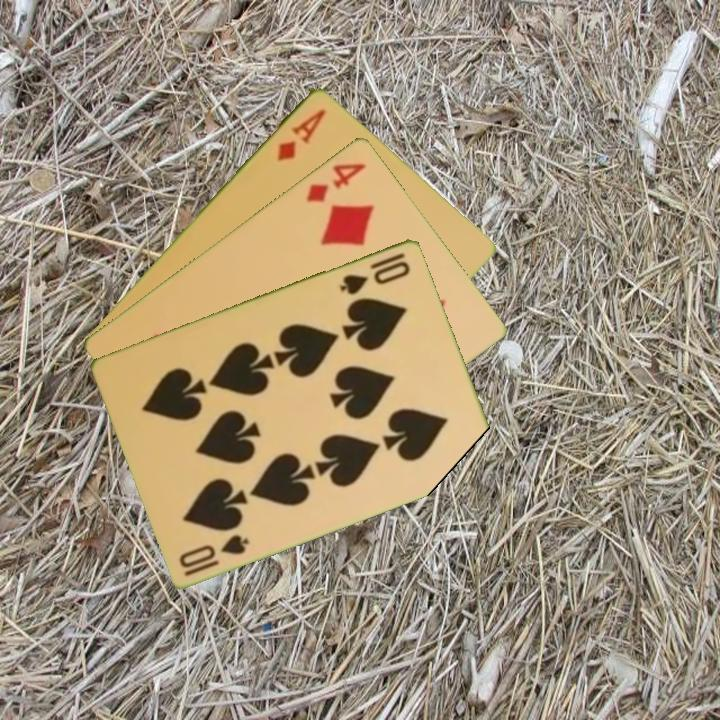10s: (336, 248, 414, 298), (176, 530, 252, 579)
4d: (303, 159, 370, 206)
Ad: (273, 105, 329, 164)
